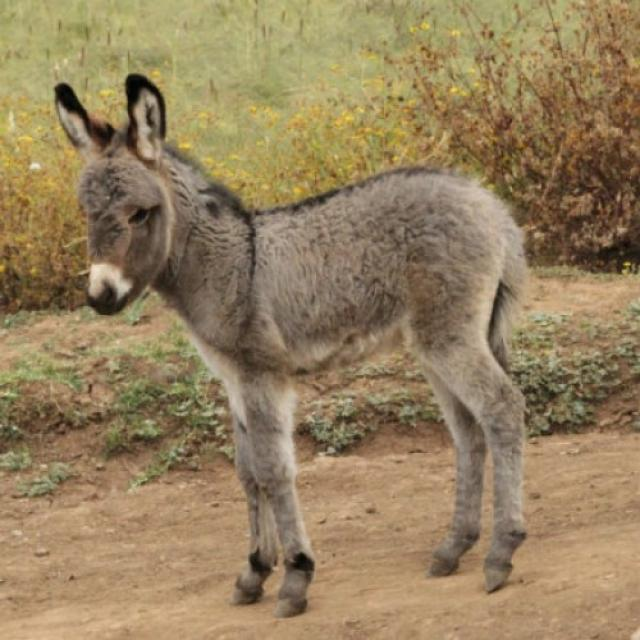Donkey: (55, 73, 538, 616)
